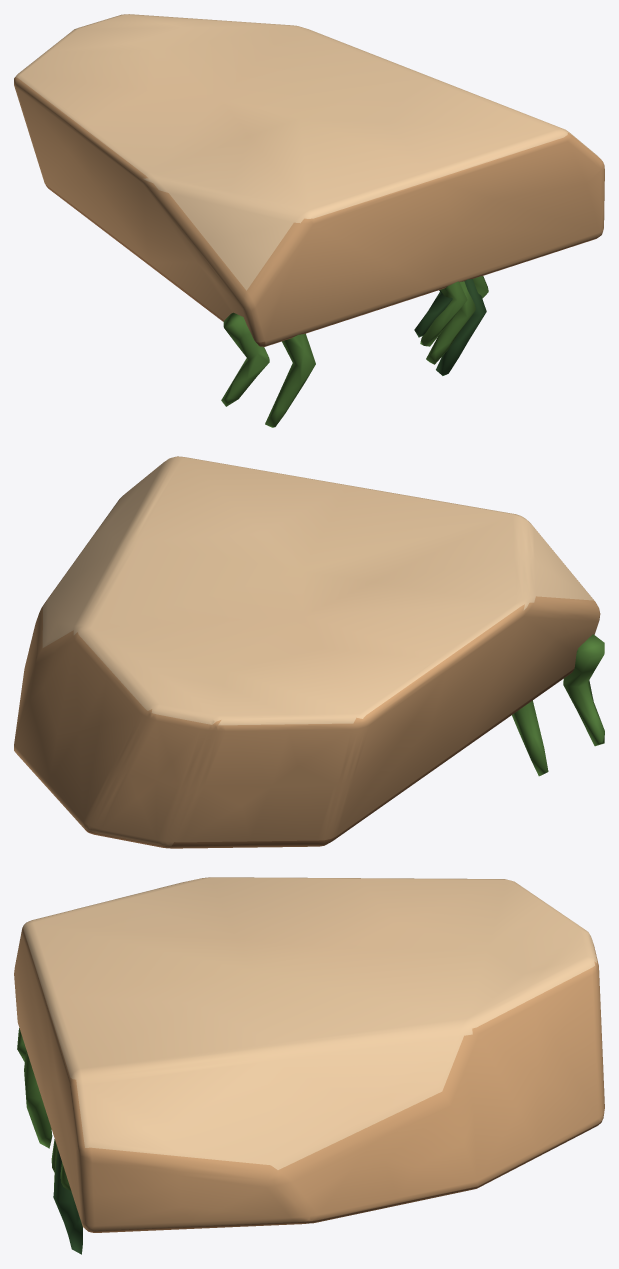
File: shore_rock_ledge.glb
3 views of the same model, one above another, from view 1: azimuth 30°, elevation 25°; view 2: azimuth 150°, elevation 25°; view 3: azimuth 270°, elevation 25° (orthographic). The views are drawn at different scales.
Visible parts, largest first — view 1: shore_rock_ledge; view 2: shore_rock_ledge; view 3: shore_rock_ledge.
Boxes of the visible parts, x1,y1,x2,y2 form: shore_rock_ledge: (14, 14, 604, 427); shore_rock_ledge: (14, 456, 604, 848); shore_rock_ledge: (14, 877, 604, 1254).
Bounding box in the file's own units: 4.15 × 2.13 × 4.62.
